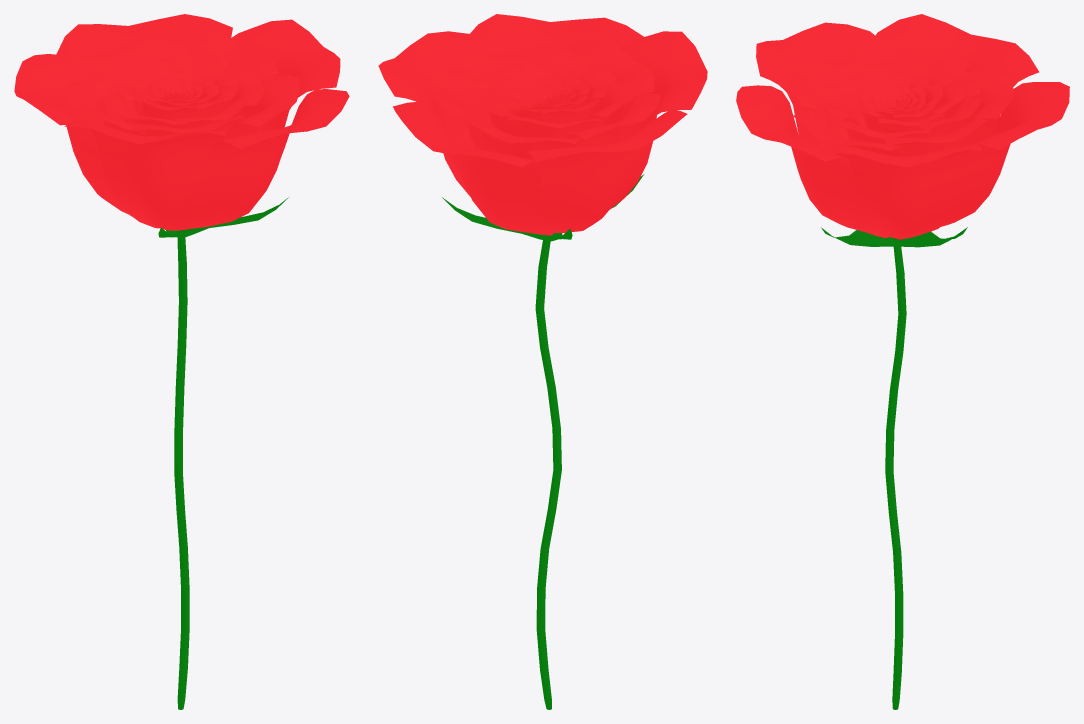
Rendered from rose.glb.
3 views of the same model, side by side, from view 1: azimuth 30°, elevation 25°; view 2: azimuth 150°, elevation 25°; view 3: azimuth 270°, elevation 25° (orthographic).
Visible parts, largest first — view 1: pCylinder3; view 2: pCylinder3; view 3: pCylinder3.
Part boxes in pixels (box(x1,y1,x2,y2)): pCylinder3: box(14, 14, 349, 709); pCylinder3: box(378, 14, 707, 709); pCylinder3: box(736, 14, 1069, 709).
Bounding box in the file's own units: 2.52 × 5.3 × 2.53.
